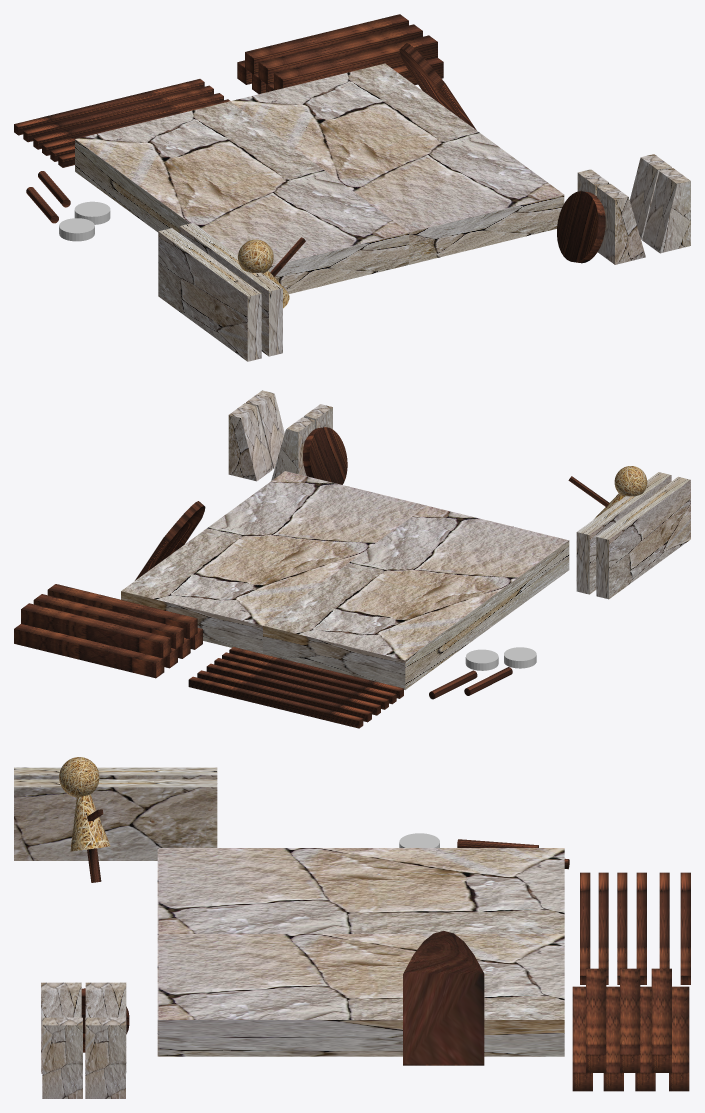
The model's file is Yamato Army onConstruction.fbx.
3 views of the same model, one above another, from view 1: azimuth 30°, elevation 25°; view 2: azimuth 150°, elevation 25°; view 3: azimuth 270°, elevation 25° (orthographic). The views are drawn at different scales.
Parts seen in each view (by area): view 1: Cube.026, Cube, Cube.004, Cube.005, Cube.003, Cube.030, Cylinder.004, Cube.010, Cube.013, Cube.008, Cube.032, Cube.033 (+8 smaller); view 2: Cube.026, Cube, Cube.004, Cube.008, Cube.007, Cube.011, Cube.003, Cube.030, Cube.033, Cylinder.004, Cube.010, Cube.028 (+10 smaller); view 3: Cube, Cube.026, Cube.003, Cube.002, Cube.011, Cube.005, Cube.010, Cube.030, Cube.008, Cube.004, Cube.007, Cube.009 (+13 smaller).
Boxes of the visible parts, x1,y1,x2,y2 form: Cube.026: [75, 101, 409, 293]; Cube: [230, 63, 564, 264]; Cube.004: [158, 228, 261, 361]; Cube.005: [642, 168, 690, 253]; Cube.003: [179, 223, 282, 356]; Cube.030: [274, 35, 437, 90]; Cylinder.004: [557, 191, 605, 263]; Cube.010: [258, 24, 422, 84]; Cube.013: [597, 183, 645, 264]; Cube.008: [245, 14, 408, 74]; Cube.032: [23, 85, 213, 142]; Cube.033: [14, 79, 204, 135]; Cube.026: [263, 505, 569, 689]; Cube: [121, 471, 426, 653]; Cube.004: [596, 476, 690, 599]; Cube.008: [21, 603, 171, 658]; Cube.007: [14, 624, 164, 678]; Cube.011: [228, 403, 273, 481]; Cube.003: [576, 472, 671, 594]; Cube.030: [47, 584, 197, 638]; Cube.033: [188, 676, 363, 728]; Cylinder.004: [303, 427, 347, 484]; Cube.010: [33, 594, 183, 648]; Cube.028: [206, 663, 380, 715]; Cube: [157, 934, 564, 1056]; Cube.026: [157, 848, 564, 933]; Cube.003: [14, 779, 217, 860]; Cube.002: [403, 931, 484, 1065]; Cube.011: [85, 1017, 125, 1098]; Cube.005: [42, 1017, 82, 1098]; Cube.010: [620, 968, 640, 1072]; Cube.030: [586, 968, 606, 1072]; Cube.008: [651, 968, 671, 1072]; Cube.004: [14, 767, 217, 779]; Cube.007: [669, 986, 689, 1091]; Cube.009: [572, 986, 592, 1091].
Size of the model in its own units: 1493 by 320 by 1664.
